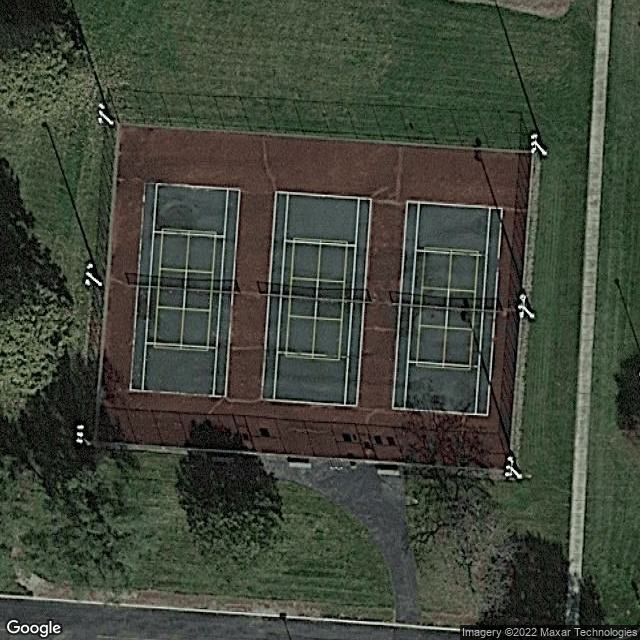Court: (391, 197, 504, 417), (260, 190, 373, 408), (129, 180, 241, 398)
